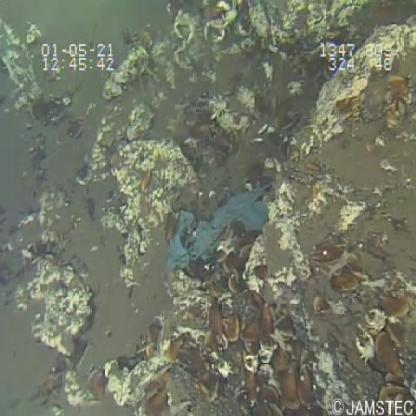Rác: (163, 182, 277, 278)
